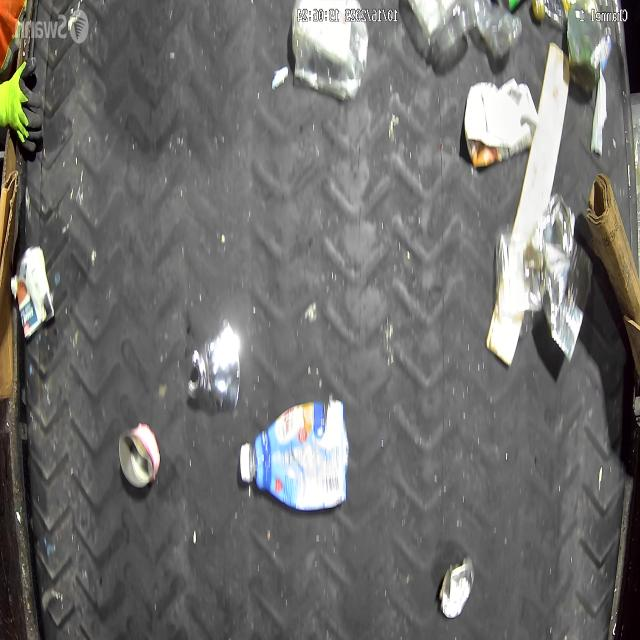can: (529, 196, 595, 360), (187, 322, 241, 414), (16, 243, 56, 339), (117, 423, 161, 488), (438, 554, 476, 619)
milk_jug: (462, 80, 540, 170)
